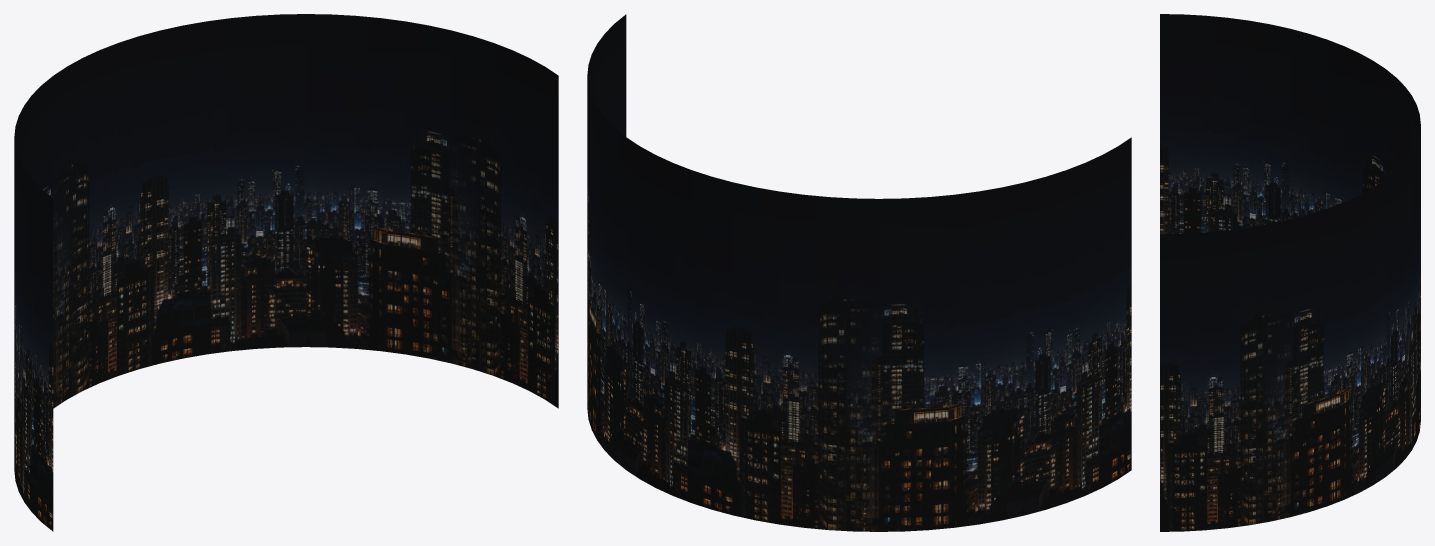
The picture shows the model from 3 angles, left to right: view 1: azimuth 30°, elevation 25°; view 2: azimuth 150°, elevation 25°; view 3: azimuth 270°, elevation 25°; orthographic projection. The views are drawn at different scales.
Visible parts, largest first — view 1: city_backdrop; view 2: city_backdrop; view 3: city_backdrop.
Boxes of the visible parts, bbox=[...] form: city_backdrop: bbox=[14, 14, 558, 531]; city_backdrop: bbox=[587, 14, 1131, 531]; city_backdrop: bbox=[1160, 14, 1420, 531].
Bounding box in the file's own units: 20 × 12.6 × 10.
Materials: 1 (1 with a texture image).
